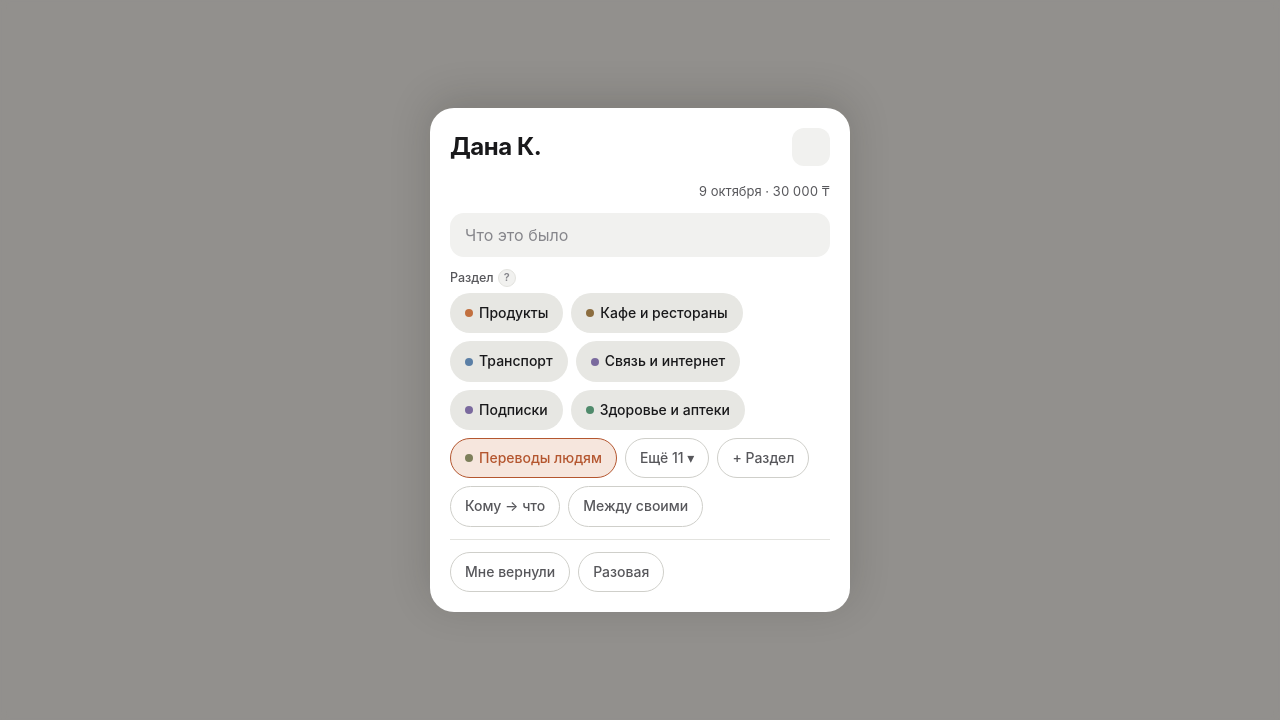
Test: FB-04: лист операции (OpSheet) › «Мне вернули» → приход Даны → «вернули 30 000», приход больше не вопрос «это зарплата?»; нажатие ещё раз — снято
Click the button "Мне вернули" at (510, 572), box [450,552,570,592]
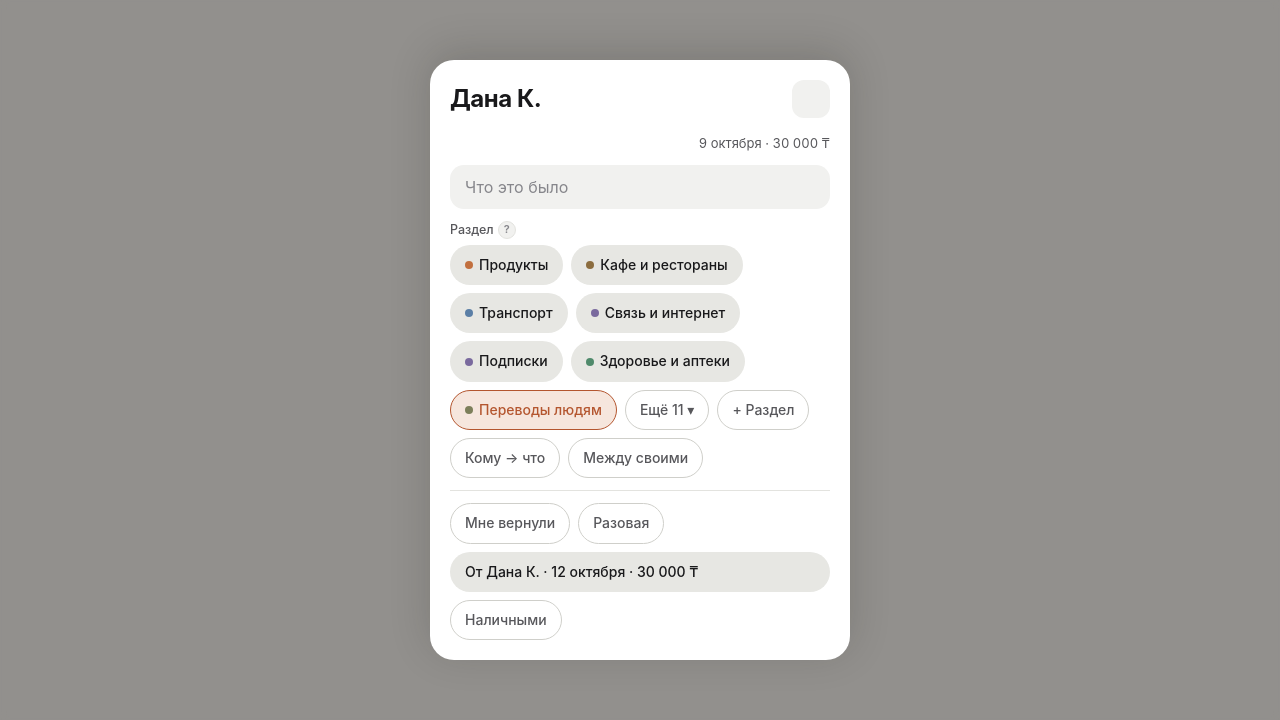
Now the button "От Дана К. · 12 октября · 30 000 ₸" is shown
Click the button "От Дана К. · 12 октября · 30 000 ₸" at (640, 572), box [450,552,830,592]
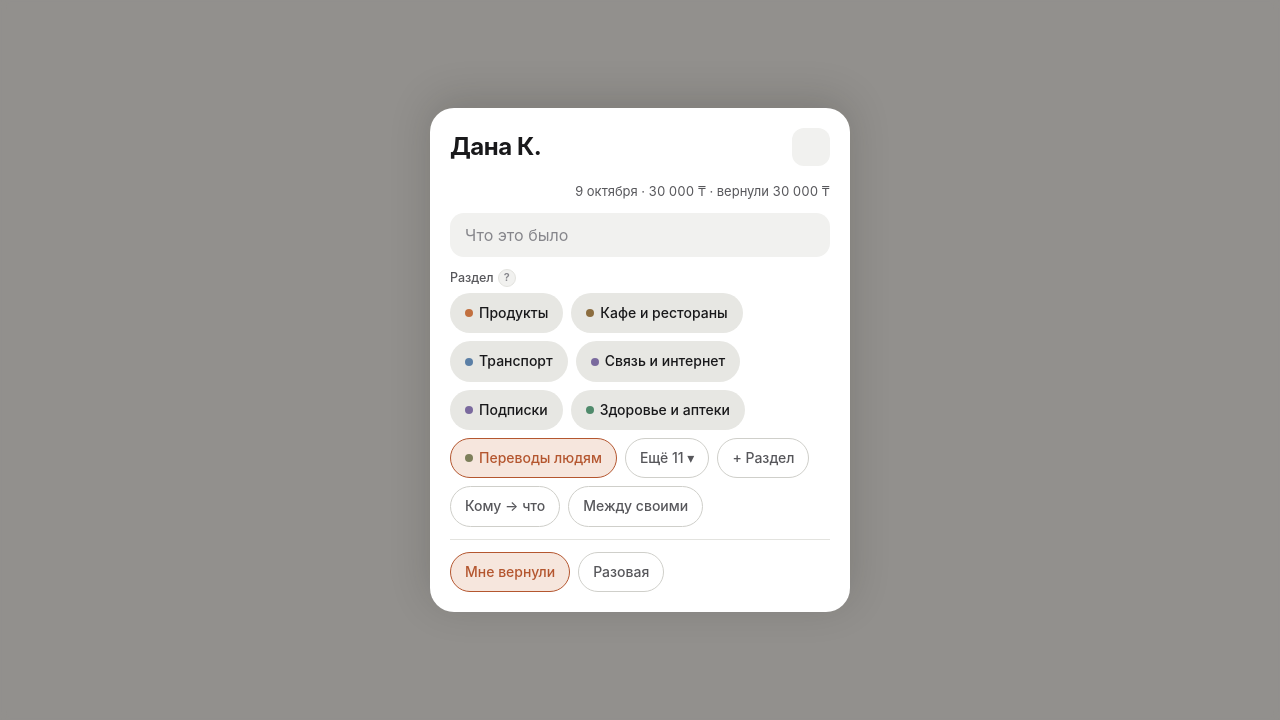
Now the text "9 октября · 30 000 ₸ · вернули 30 000 ₸" is shown, box [575,183,830,199]
Click the button "Мне вернули" at (510, 572), box [450,552,570,592]
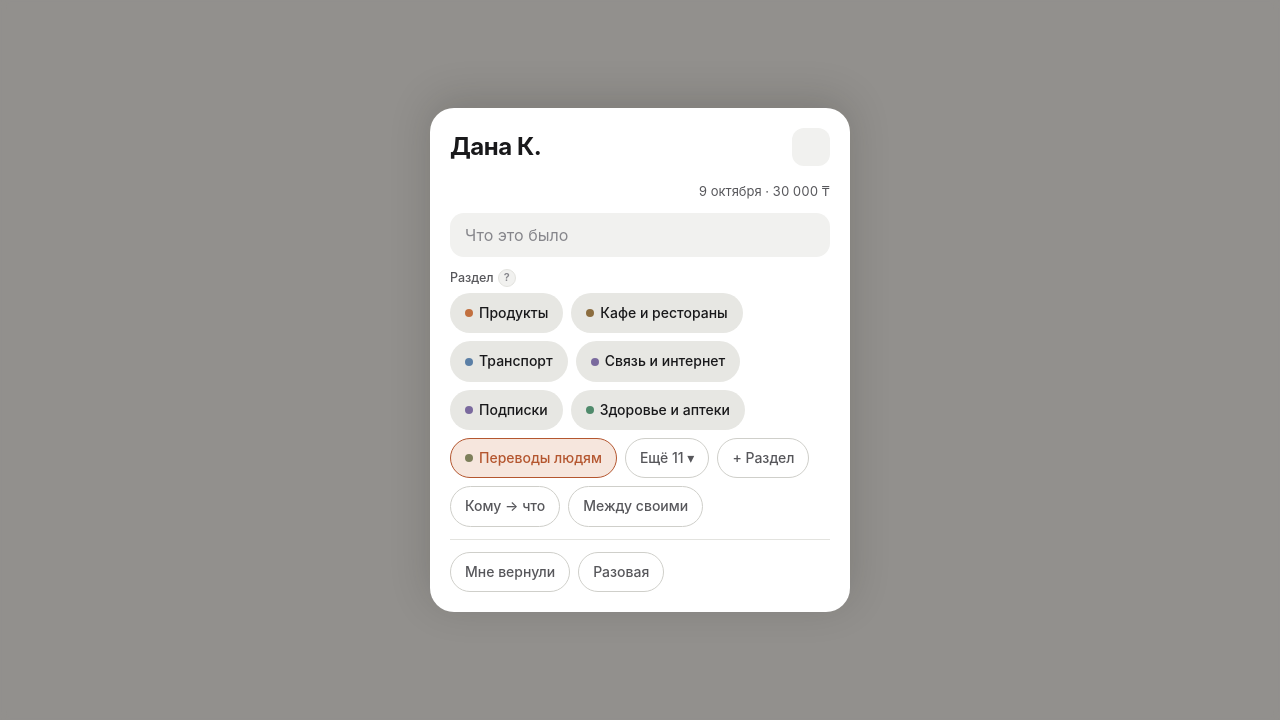
Now the text "9 октября · 30 000 ₸" is shown, box [699,183,830,199]
